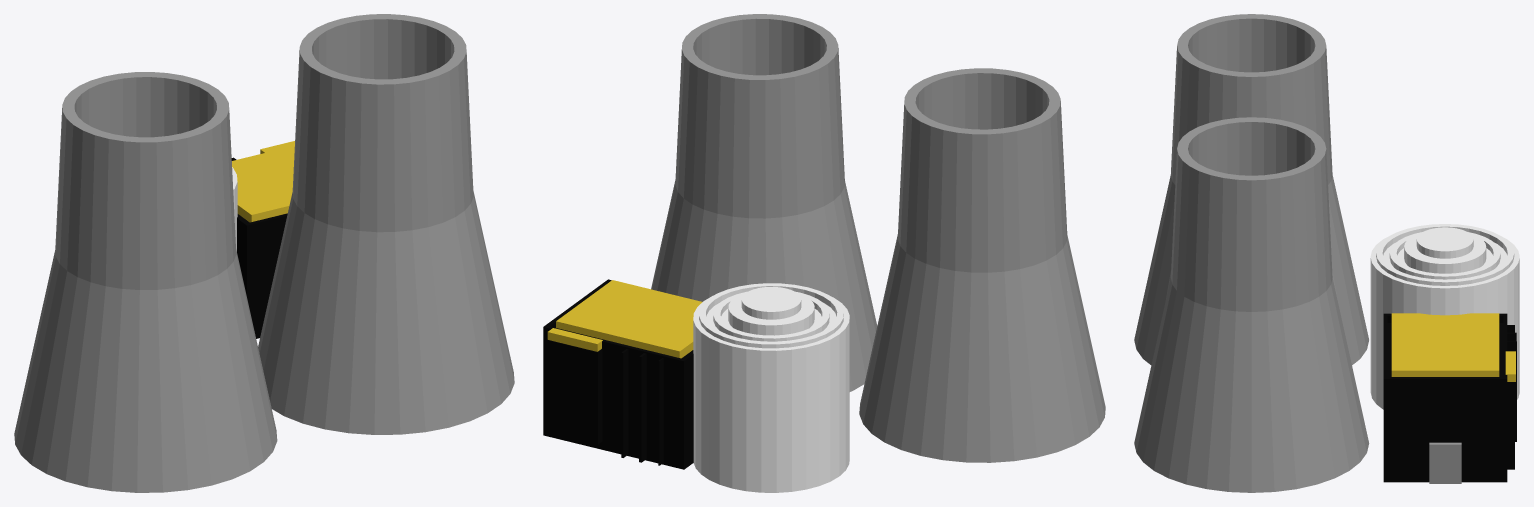
Rendered from powerStation.fbx.
The picture shows the model from 3 angles, left to right: view 1: azimuth 30°, elevation 25°; view 2: azimuth 150°, elevation 25°; view 3: azimuth 270°, elevation 25°; orthographic projection. The views are drawn at different scales.
Parts seen in each view (by area): view 1: Cylinder.002, Cube.001, Cube; view 2: Cylinder.002, Cylinder.001, Cube, Cube.001; view 3: Cylinder.002, Cylinder.001, Cube, Cube.001.
Boxes of the visible parts, <box> form: Cylinder.002: <box>14,14,514,492</box>; Cube.001: <box>232,141,294,222</box>; Cube: <box>231,157,287,338</box>; Cylinder.002: <box>651,14,1105,462</box>; Cylinder.001: <box>693,283,849,492</box>; Cube: <box>543,279,693,469</box>; Cube.001: <box>547,280,702,358</box>; Cylinder.002: <box>1134,14,1461,492</box>; Cylinder.001: <box>1370,224,1519,409</box>; Cube: <box>1383,313,1516,482</box>; Cube.001: <box>1391,313,1515,381</box>.
Size of the model in its own units: 642 by 437 by 517.
